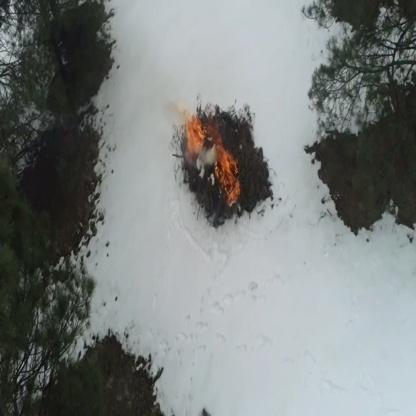Fire: (224, 165, 240, 204), (187, 119, 203, 154), (217, 138, 226, 176), (220, 151, 238, 170), (202, 125, 218, 136)
